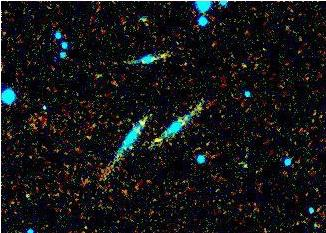star: (127, 122, 157, 152)
